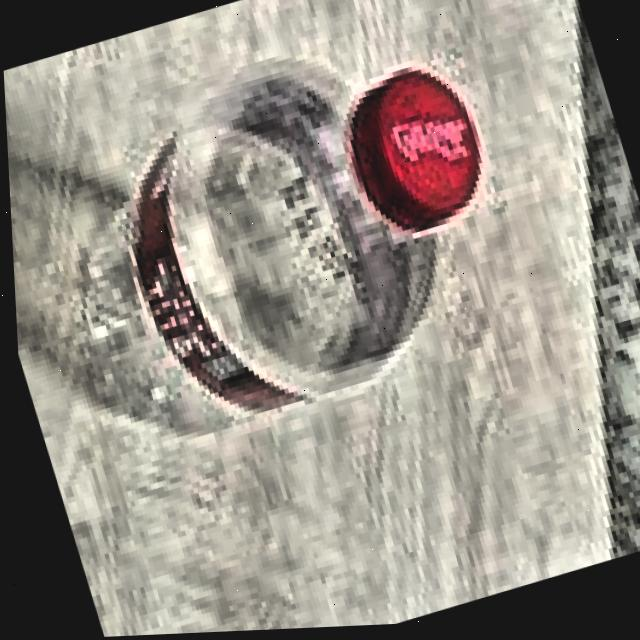plastic: (1, 1, 548, 482)
